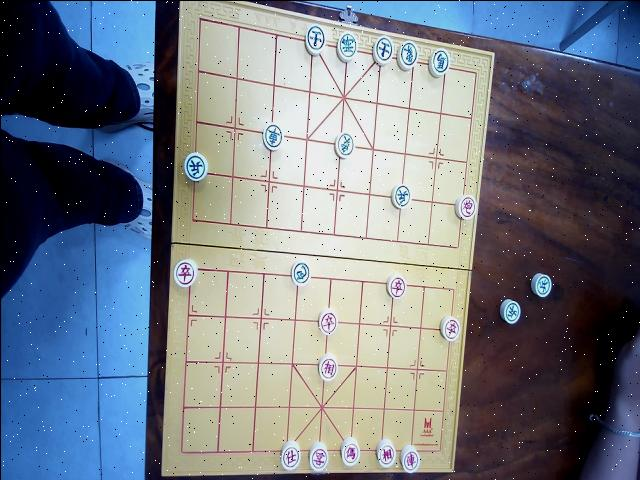piece: (173, 258, 197, 286), (396, 40, 418, 70), (184, 152, 207, 180), (372, 35, 393, 65), (337, 31, 357, 61), (428, 48, 449, 76), (305, 25, 324, 55), (340, 436, 359, 465), (309, 441, 328, 470), (281, 440, 300, 469), (262, 123, 282, 150), (400, 444, 419, 472), (376, 438, 395, 466), (455, 194, 476, 219), (386, 272, 406, 298), (318, 307, 337, 334), (318, 353, 337, 380), (391, 183, 411, 208), (440, 315, 460, 340), (334, 132, 353, 158), (531, 273, 551, 296), (500, 299, 519, 323), (291, 261, 309, 285)
